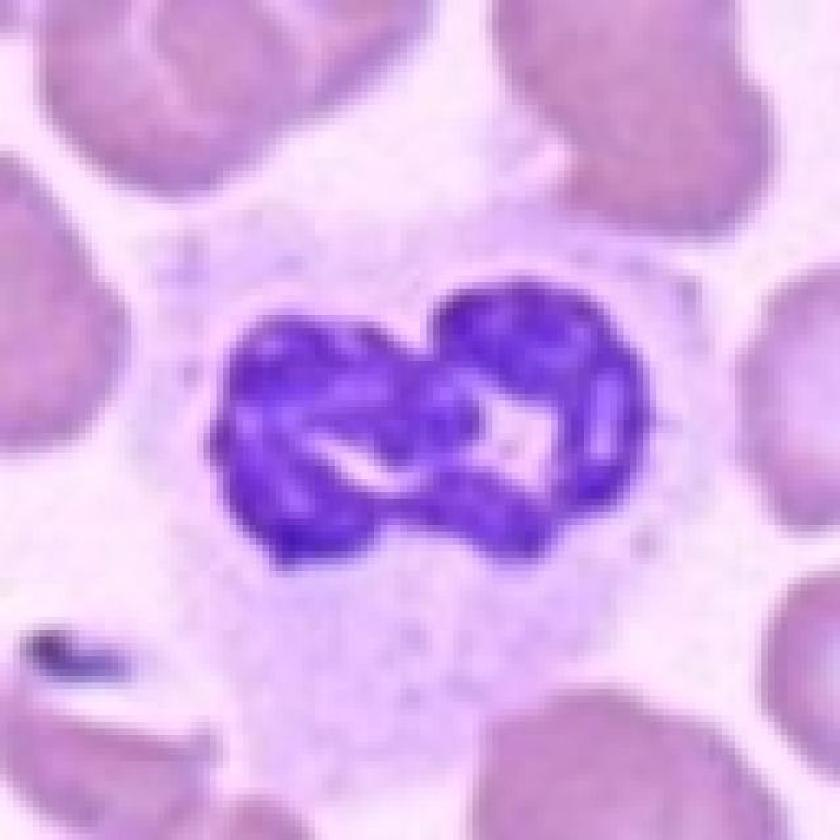neutrophil: (87, 180, 726, 722)
